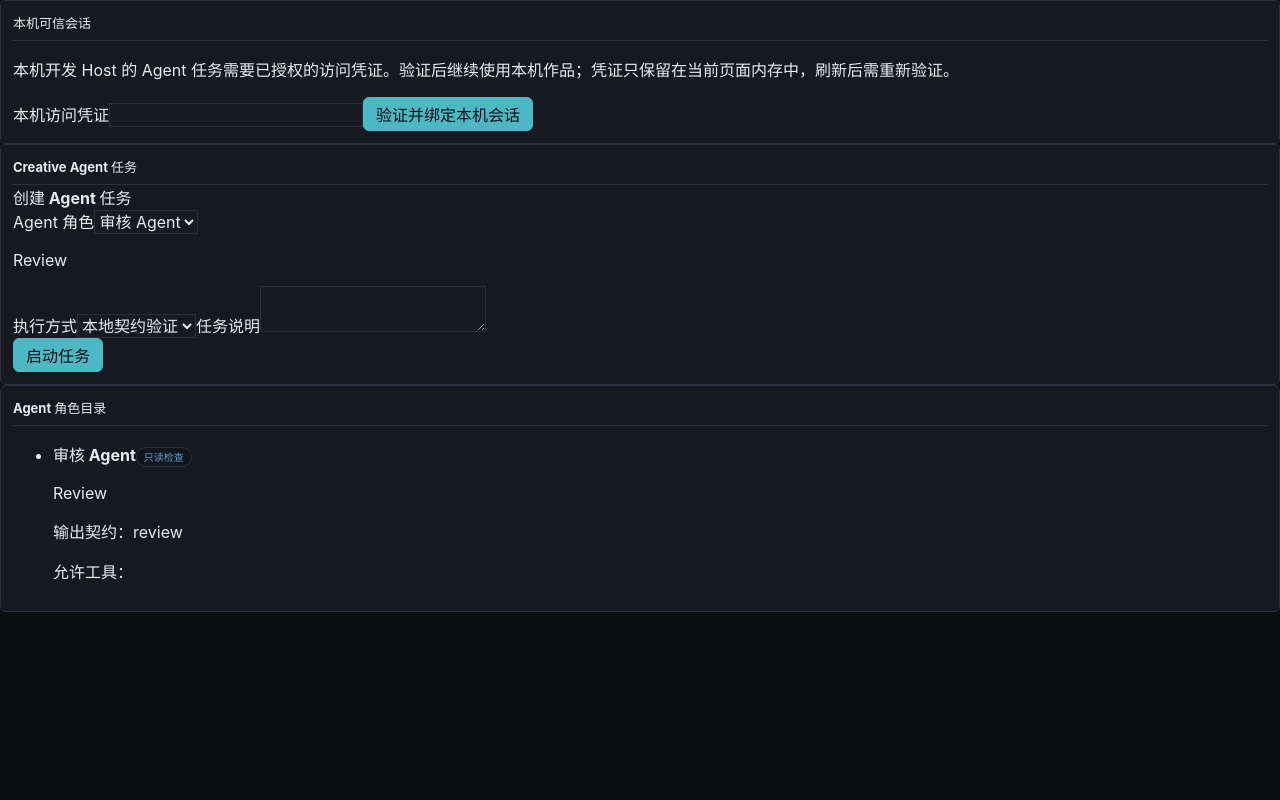
Test case: exposes the real API failure on Agent start and keeps the instruction for retry
Step 1. Type "保留核对要求" into the text box labelled "任务说明" → (373, 309), box [260,286,486,332]
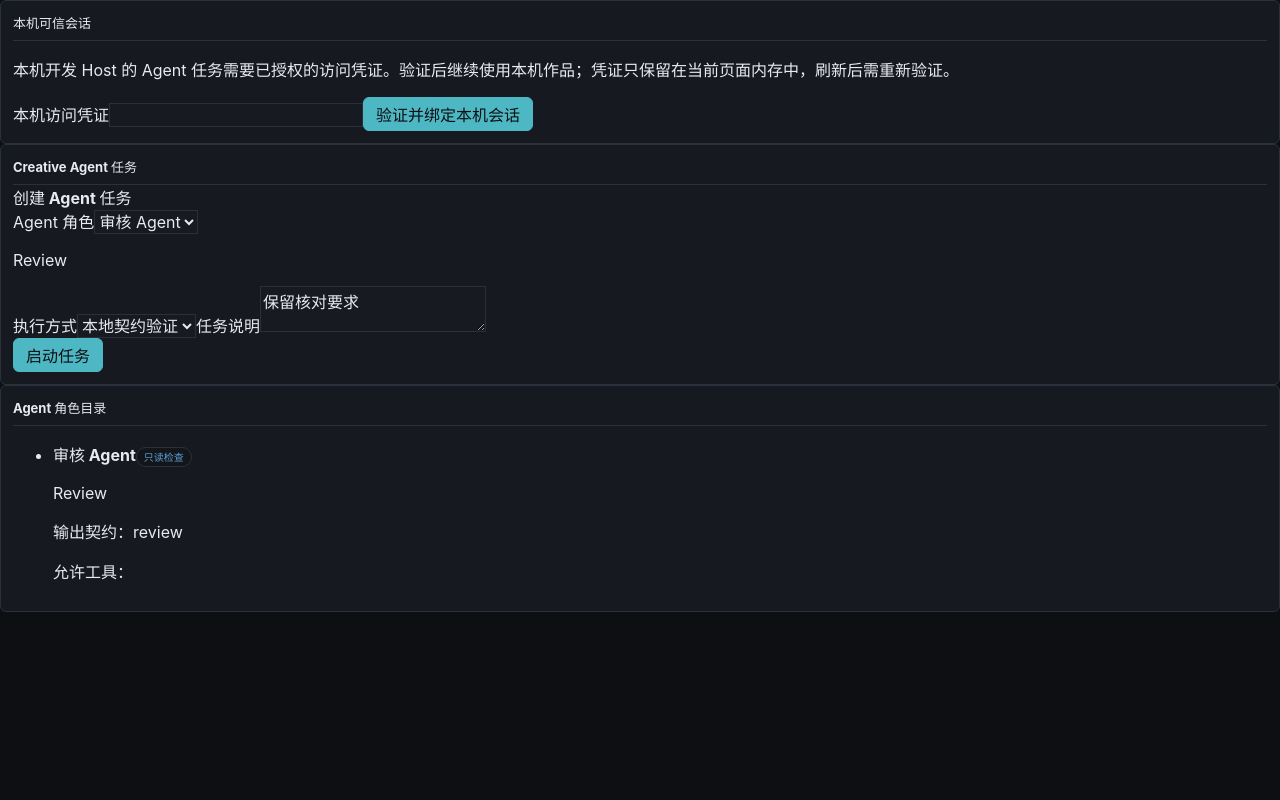
Step 2. Click the button "启动任务" → click(58, 355), box [13,338,103,372]
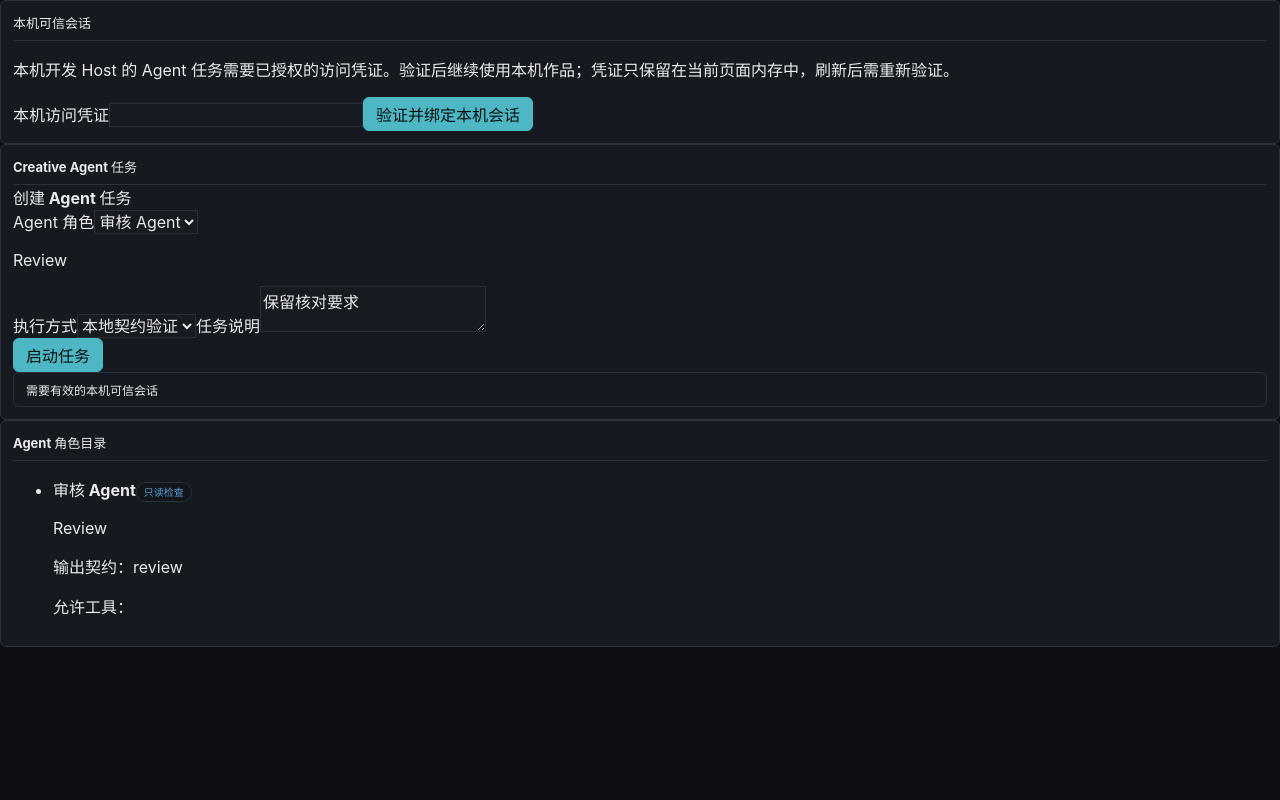
Now the message reads "需要有效的本机可信会话", box [26,383,158,398]
